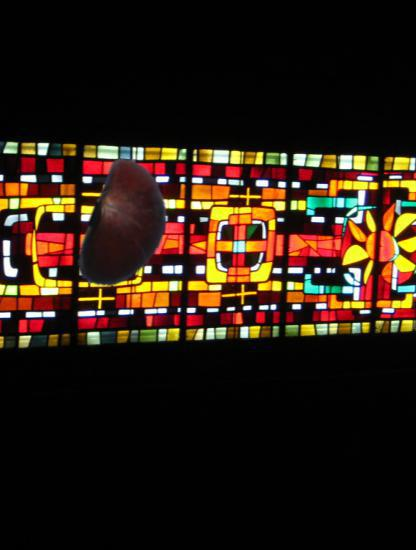Chestnut: (61, 161, 194, 294)
